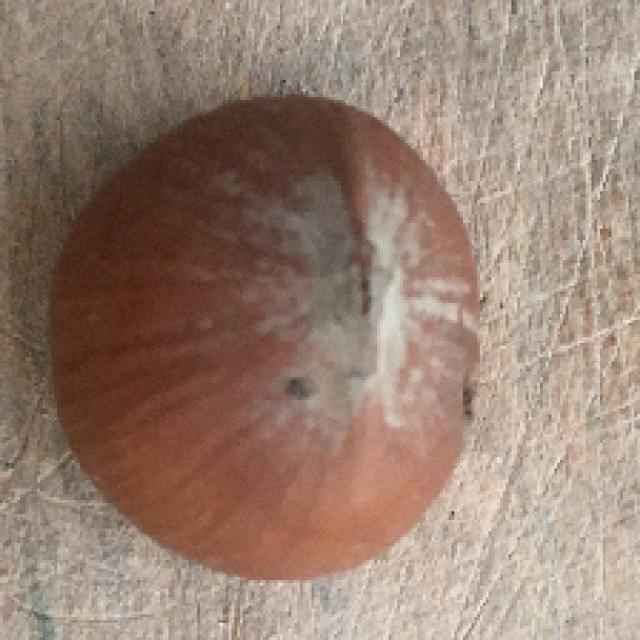qualityHazelnut: (53, 95, 489, 578)
